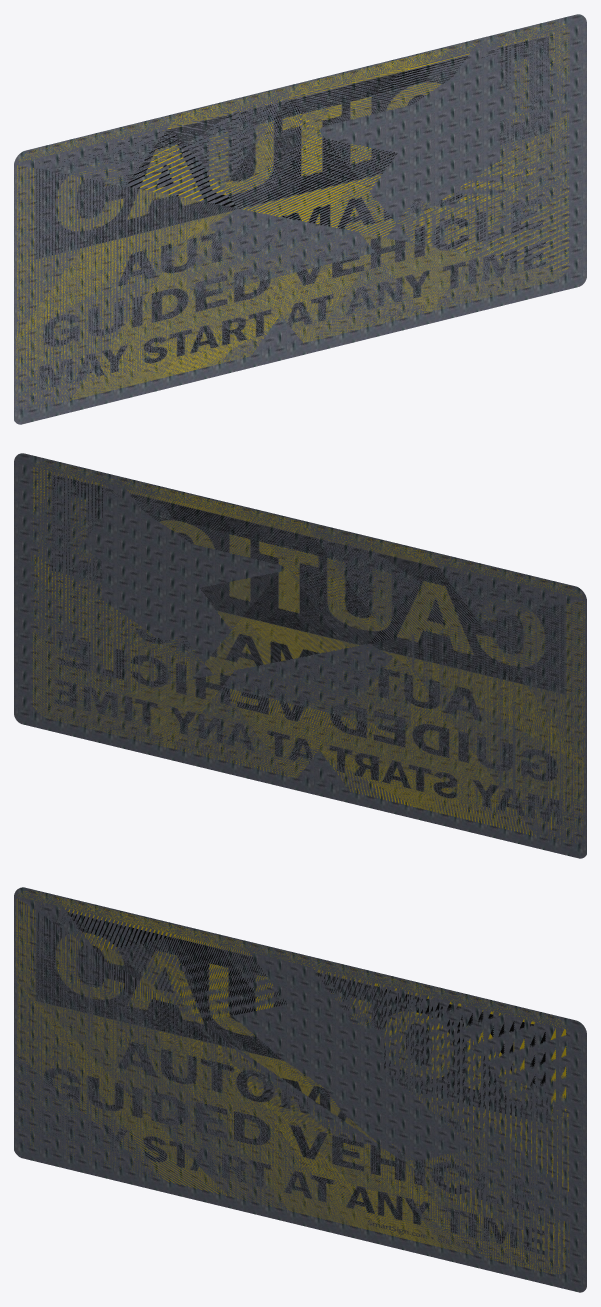
3 views of the same model, one above another, from view 1: azimuth 30°, elevation 25°; view 2: azimuth 150°, elevation 25°; view 3: azimuth 330°, elevation 25° (orthographic).
Visible parts, largest first — view 1: SketchUp; view 2: SketchUp; view 3: SketchUp.
Part boxes in pixels (x1=…): SketchUp: x1=14, y1=14, x2=586, y2=424; SketchUp: x1=14, y1=453, x2=586, y2=858; SketchUp: x1=14, y1=887, x2=586, y2=1292.
Size of the model in its own units: 97.6 by 0.5129 by 44.3.
Materials: 2 (2 with a texture image).
